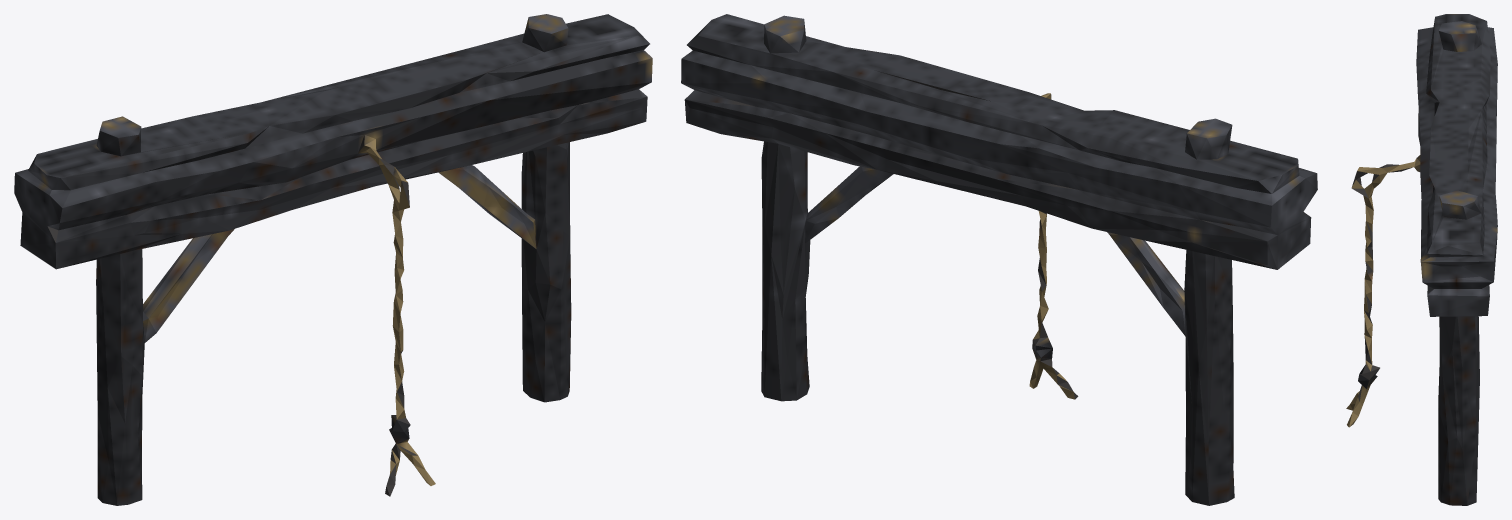
File: SM_MeshyWinch.fbx
3 views of the same model, side by side, from view 1: azimuth 30°, elevation 25°; view 2: azimuth 150°, elevation 25°; view 3: azimuth 270°, elevation 25° (orthographic). The views are drawn at different scales.
Visible parts, largest first — view 1: SM_MeshyWinch; view 2: SM_MeshyWinch; view 3: SM_MeshyWinch.
Part boxes in pixels (x1,y1,x2,y2): SM_MeshyWinch: [14, 14, 652, 505]; SM_MeshyWinch: [681, 14, 1317, 505]; SM_MeshyWinch: [1346, 14, 1497, 505].
Size of the model in its own units: 2.4 by 1.42 by 0.6485.
Materials: 1 (1 with a texture image).
